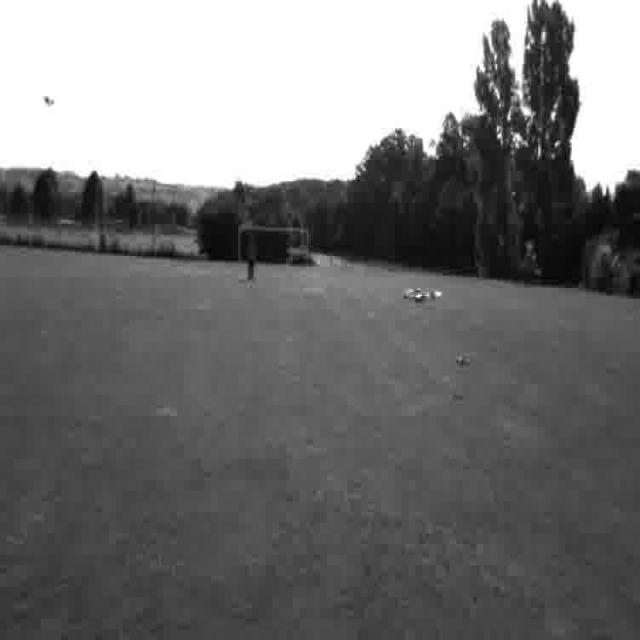drone: (402, 285, 444, 305)
